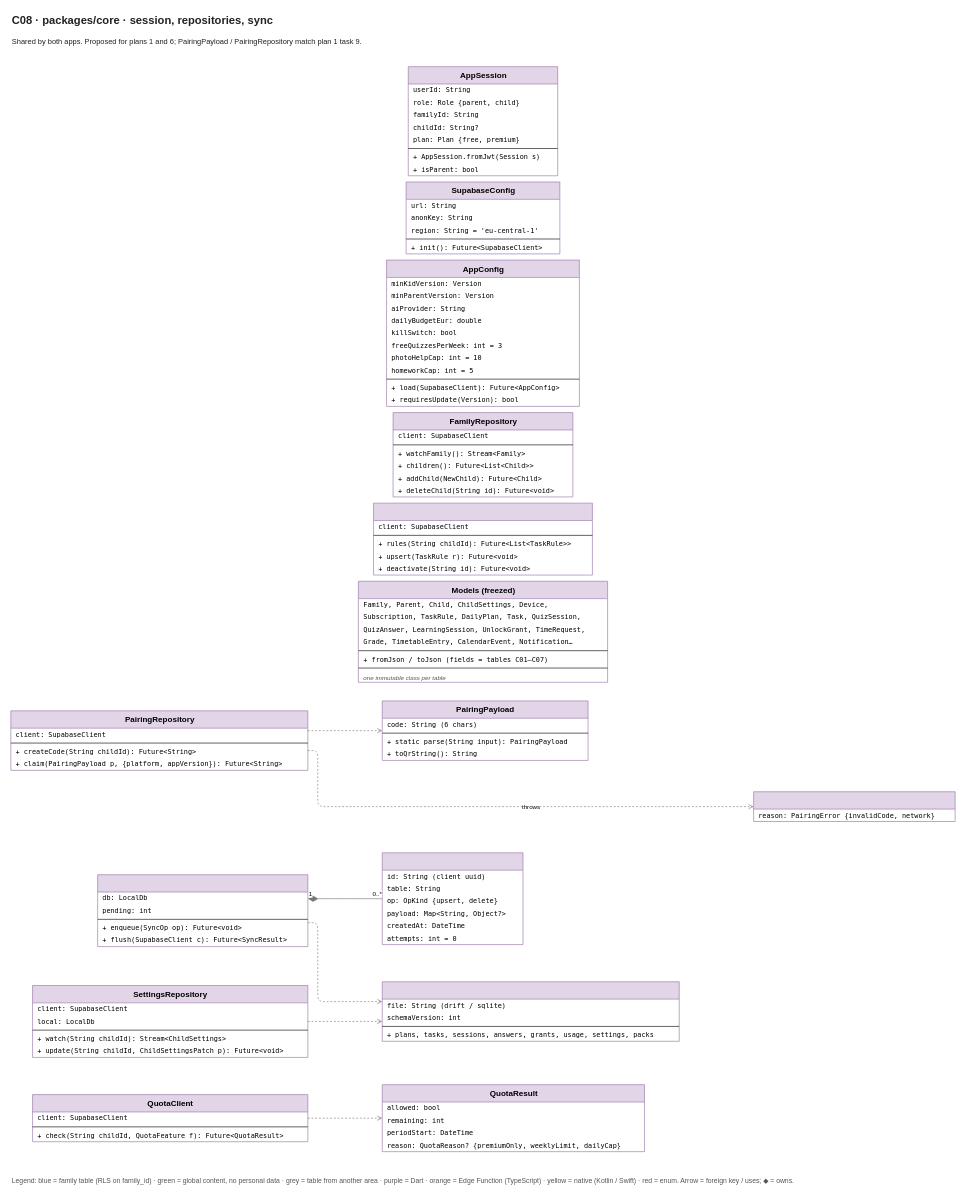
Image size: 966x1202. Some labels were removed from this diagram. Here are the shapes that lost their labels. From the top down, the box of each, then its label:
(373, 503, 592, 575): TaskRuleRepository
(753, 791, 955, 822): PairingException
(97, 874, 308, 947): Outbox
(382, 852, 523, 945): SyncOp
(382, 981, 679, 1041): LocalDb
